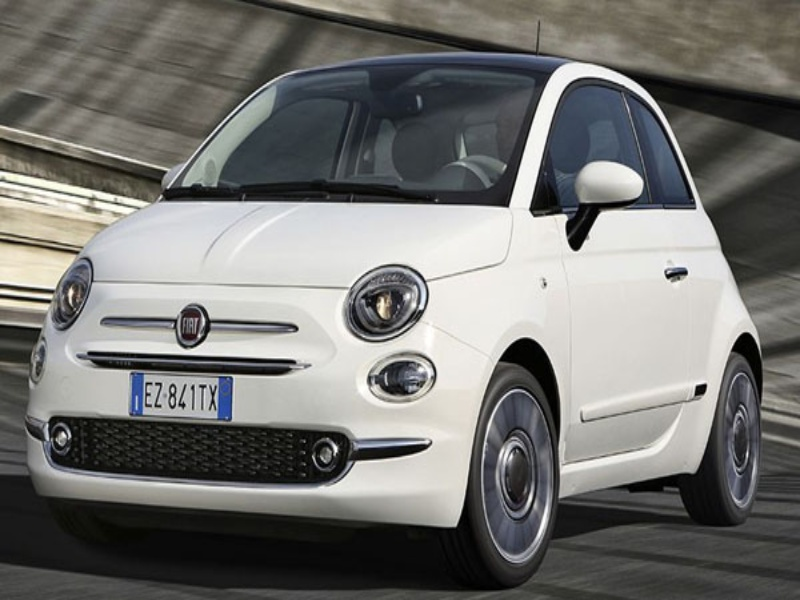licence_plate: (122, 362, 243, 428)
